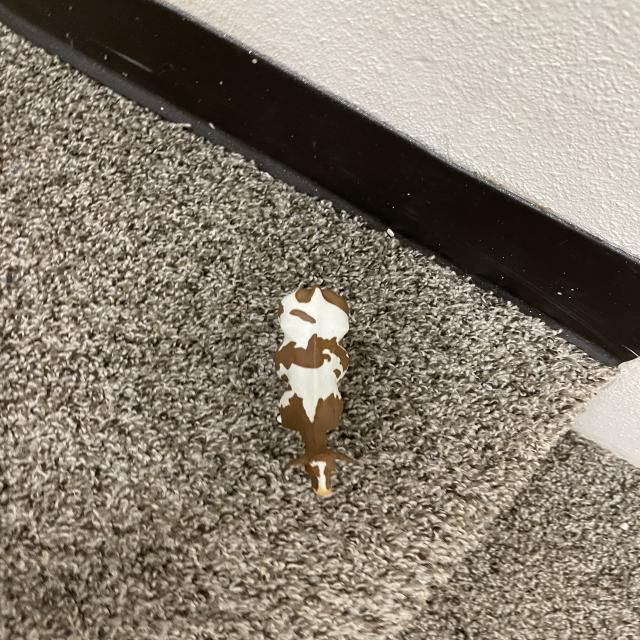cow: (272, 285, 352, 496)
